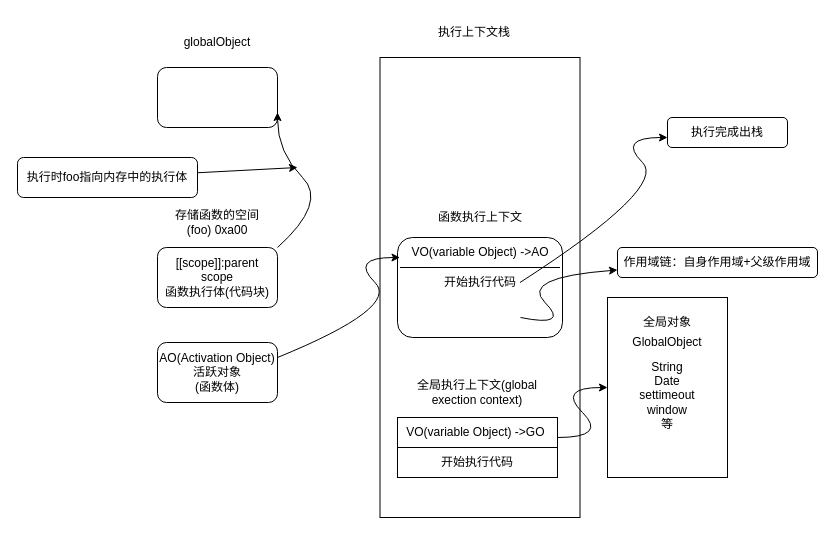
Some shapes in this 835 by 535 pixel diagram are drawn without their labels. The shapes that lost their labels are listed below. From the top down, each one's box as (x1, y1, x2, y2) in pixels, then its label:
(156, 66, 278, 128): { name:undefined foo:0xa00->内存地址 }
(396, 236, 562, 338): scope chain：AO+ParentScope
